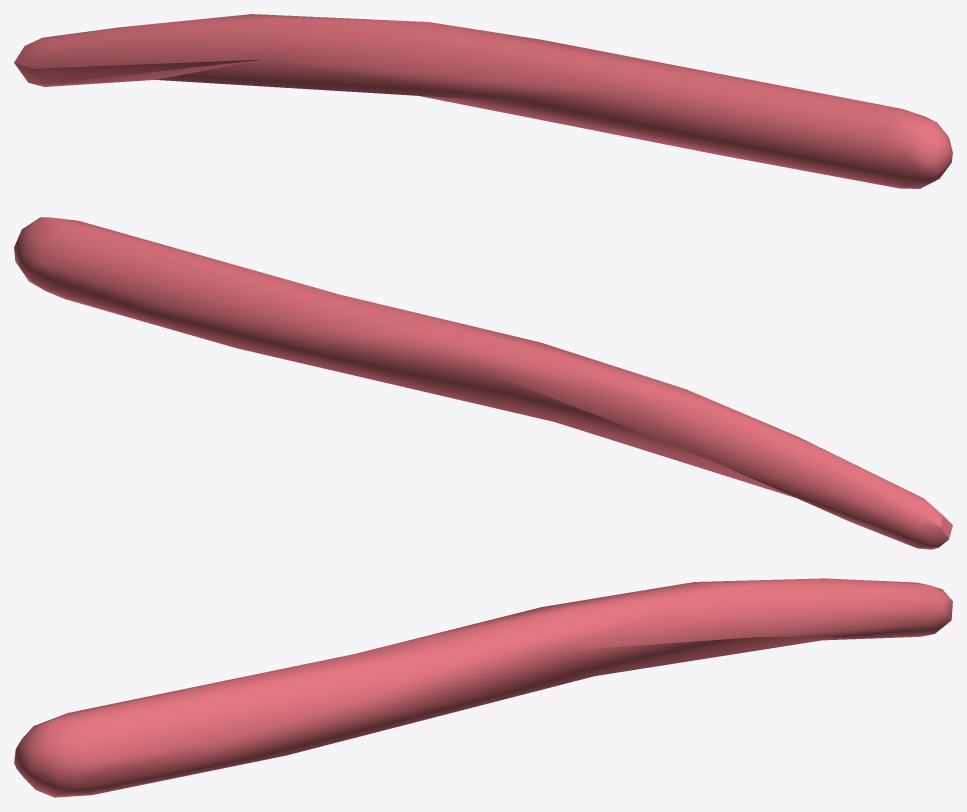
Rendered from fma8663_fj6092.glb.
3 views of the same model, one above another, from view 1: azimuth 30°, elevation 25°; view 2: azimuth 210°, elevation 25°; view 3: azimuth 270°, elevation 25° (orthographic). The views are drawn at different scales.
Parts seen in each view (by area): view 1: FMA8663_FJ6092; view 2: FMA8663_FJ6092; view 3: FMA8663_FJ6092.
Part boxes in pixels (x1=…): FMA8663_FJ6092: x1=14, y1=14, x2=952, y2=188; FMA8663_FJ6092: x1=14, y1=217, x2=952, y2=549; FMA8663_FJ6092: x1=14, y1=578, x2=952, y2=797.
Bounding box in the file's own units: 0.0273 × 0.00745 × 0.0395.
